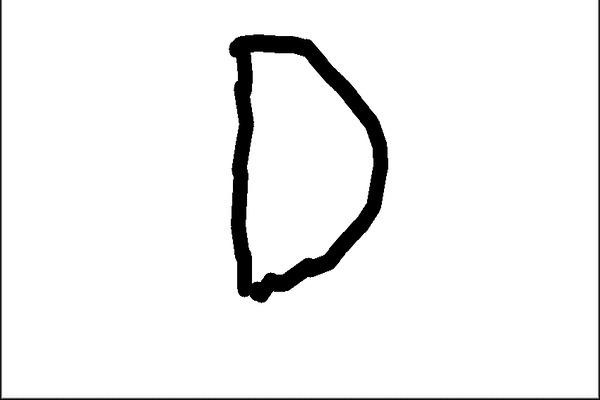D: (218, 25, 396, 306)
